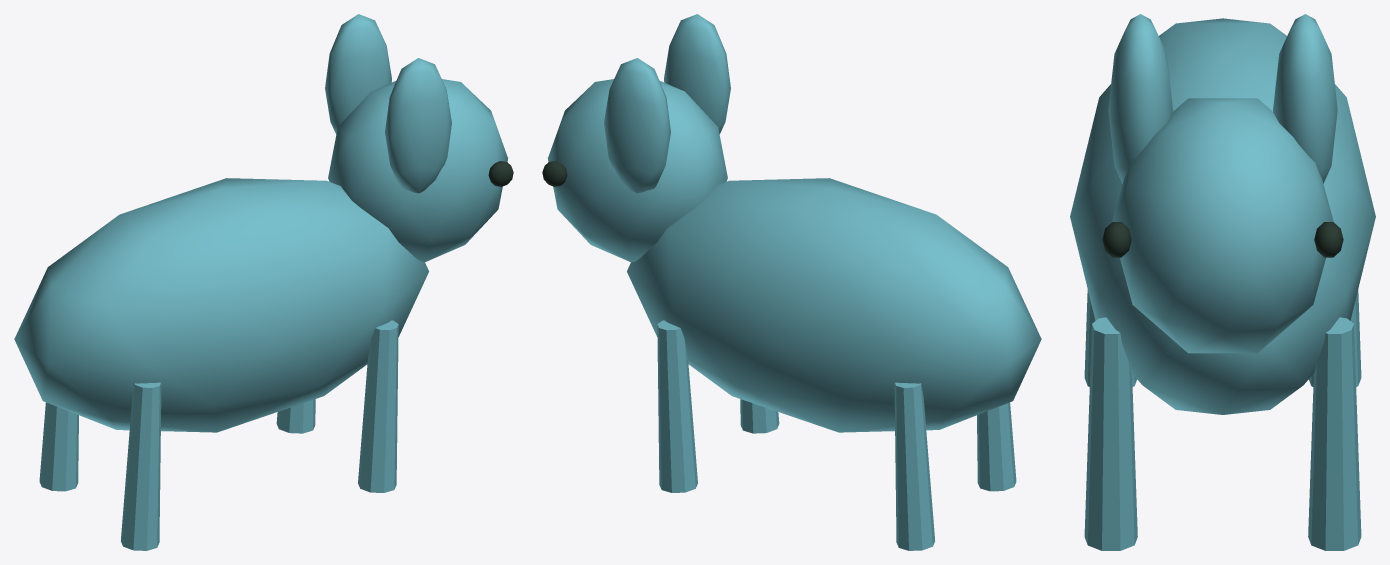
File: Herbivore_A.fbx
3 views of the same model, side by side, from view 1: azimuth 30°, elevation 25°; view 2: azimuth 150°, elevation 25°; view 3: azimuth 270°, elevation 25° (orthographic). The views are drawn at different scales.
Parts seen in each view (by area): view 1: Herbivore_A; view 2: Herbivore_A; view 3: Herbivore_A.
Boxes of the visible parts, x1=… form: Herbivore_A: x1=14, y1=14, x2=513, y2=550; Herbivore_A: x1=542, y1=14, x2=1041, y2=550; Herbivore_A: x1=1070, y1=14, x2=1375, y2=550.
Bounding box in the file's own units: 125 × 105 × 52.
